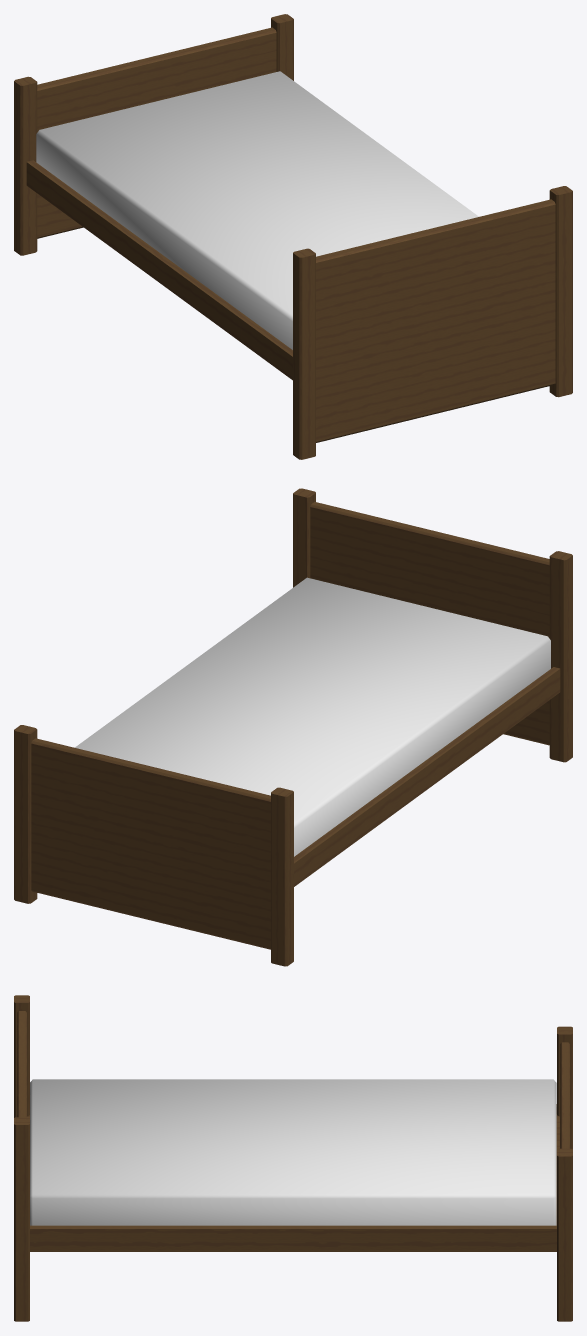
File: bed.fbx
3 renders of one model, top to bottom at view 1: azimuth 30°, elevation 25°; view 2: azimuth 150°, elevation 25°; view 3: azimuth 270°, elevation 25°, orthographic. The views are drawn at different scales.
Visible parts, largest first — view 1: Matress, Head, Leg, Frame; view 2: Matress, Leg, Head, Frame; view 3: Matress, Frame, Head, Leg.
Part boxes in pixels (bbox=[...]): Matress: bbox=[36, 71, 478, 349]; Head: bbox=[293, 186, 572, 459]; Leg: bbox=[14, 14, 293, 255]; Frame: bbox=[26, 160, 292, 380]; Matress: bbox=[75, 577, 550, 856]; Leg: bbox=[14, 725, 293, 966]; Head: bbox=[293, 488, 572, 762]; Frame: bbox=[294, 667, 560, 886]; Matress: bbox=[30, 1079, 556, 1225]; Frame: bbox=[27, 1104, 559, 1251]; Head: bbox=[14, 995, 29, 1321]; Leg: bbox=[557, 1026, 572, 1321].
Size of the model in its own units: 550 by 388 by 1000.
